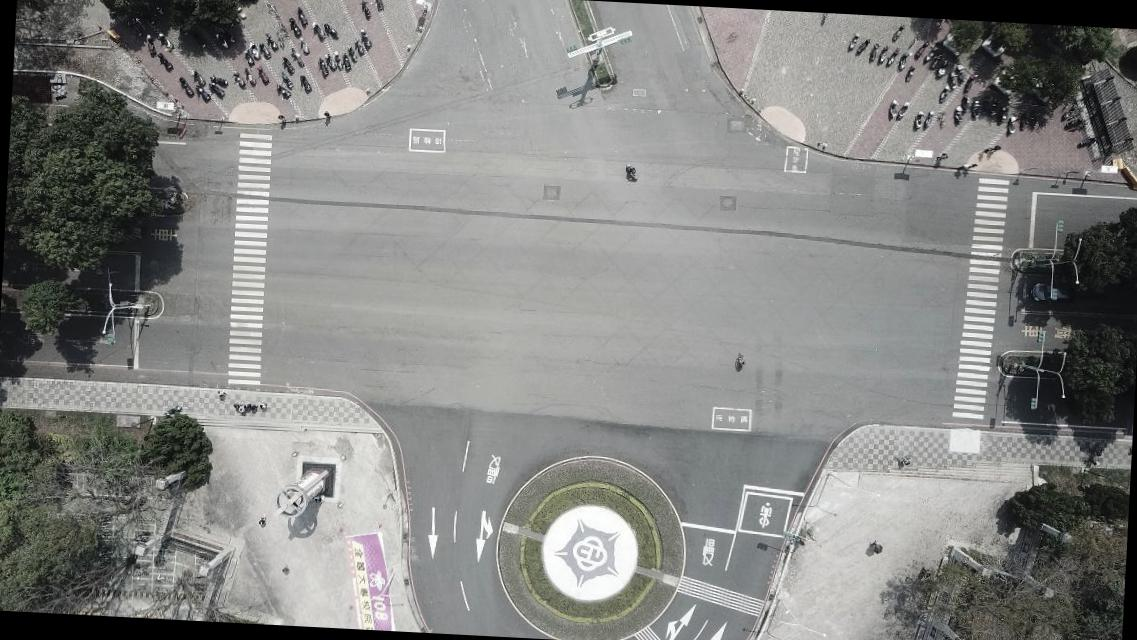vehicle: (1030, 278, 1082, 305)
